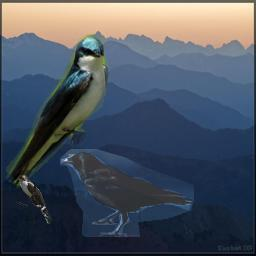Crow: (60, 149, 194, 237)
Cuckoo: (16, 175, 53, 224)
Swallow: (6, 34, 110, 191)
